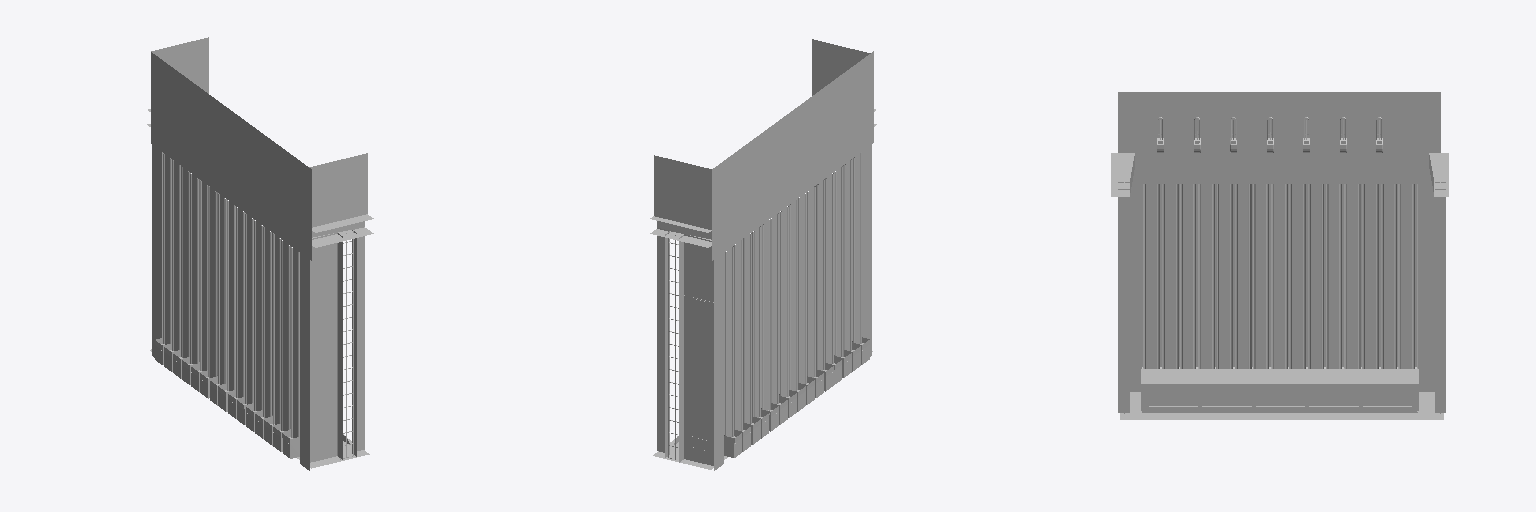
File: all.obj
3 renders of one model, left to right at view 1: azimuth 30°, elevation 25°; view 2: azimuth 150°, elevation 25°; view 3: azimuth 270°, elevation 25°, orthographic.
Parts seen in each view (by area): view 1: Venue01.lwo.001; view 2: Venue01.lwo.001; view 3: Venue01.lwo.001.
Part boxes in pixels (x1,y1,x2,y2): Venue01.lwo.001: (147, 37, 373, 470); Venue01.lwo.001: (650, 39, 876, 470); Venue01.lwo.001: (1111, 92, 1448, 419).
Bounding box in the file's own units: 12.98 × 55.51 × 55.97.